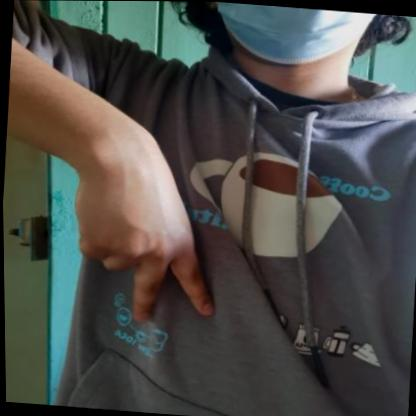N: (68, 155, 251, 346)
